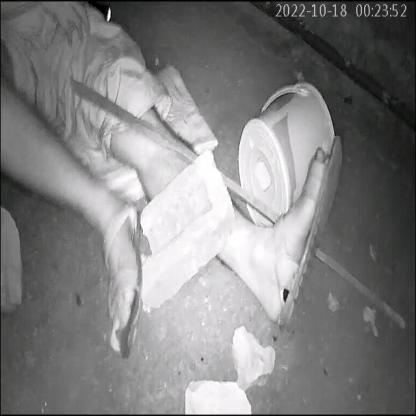leg: (0, 75, 148, 368), (210, 130, 352, 334)
